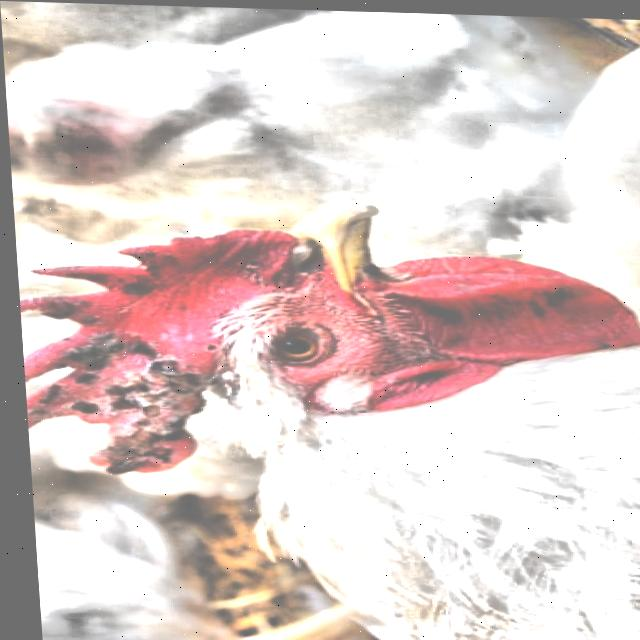Fowlpox: (10, 198, 232, 507)
